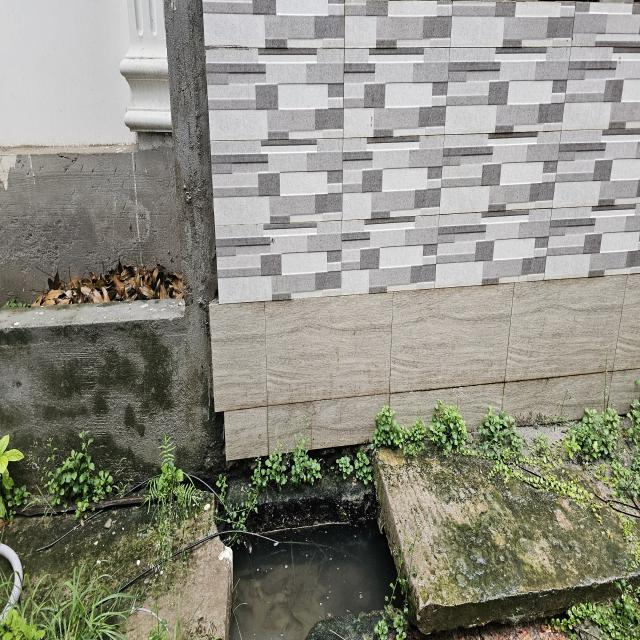drain_inlet: (226, 459, 421, 640)
